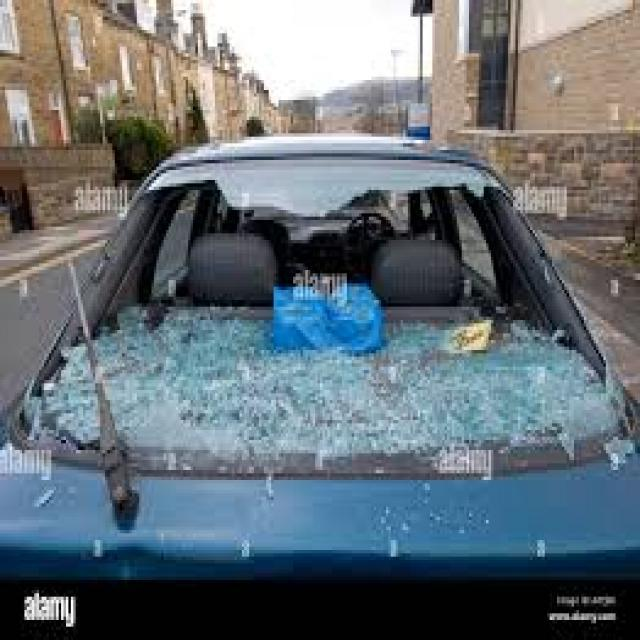damaged-rear-window: (42, 148, 625, 458)
